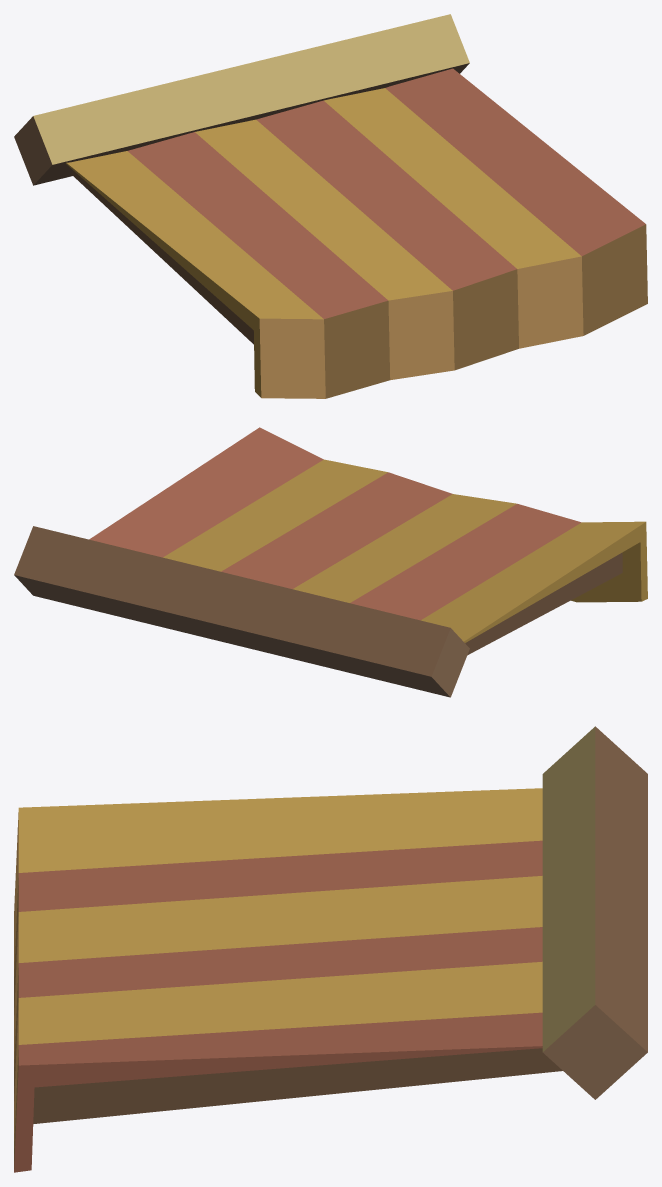
Rendered from TB_D_Bd_Canopy_Str_D.FBX.
3 views of the same model, one above another, from view 1: azimuth 30°, elevation 25°; view 2: azimuth 150°, elevation 25°; view 3: azimuth 270°, elevation 25° (orthographic). The views are drawn at different scales.
Parts seen in each view (by area): view 1: TB_D_Bd_Canopy_Str_D; view 2: TB_D_Bd_Canopy_Str_D; view 3: TB_D_Bd_Canopy_Str_D.
Part boxes in pixels (x1,y1,x2,y2): TB_D_Bd_Canopy_Str_D: (14, 14, 647, 398); TB_D_Bd_Canopy_Str_D: (14, 427, 647, 697); TB_D_Bd_Canopy_Str_D: (14, 726, 647, 1172).
Bounding box in the file's own units: 1.88 × 0.6442 × 1.81.
